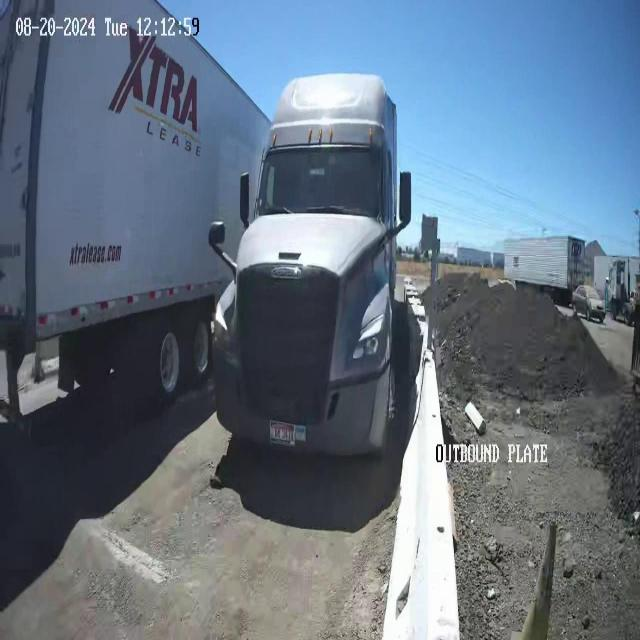CONTAINER: (0, 2, 236, 334)
